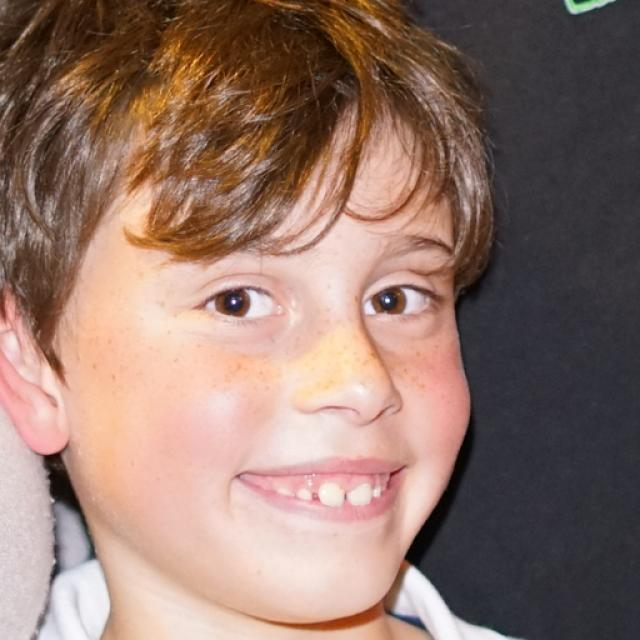happy: (74, 85, 475, 623)
